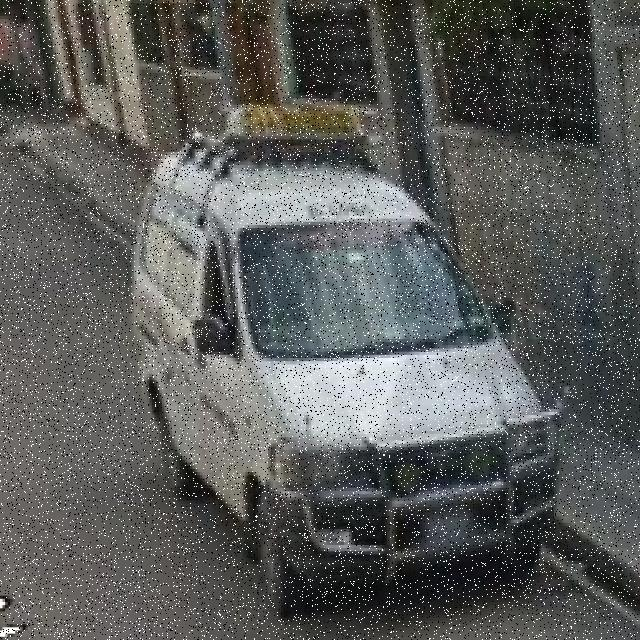cars: (136, 119, 572, 620)
